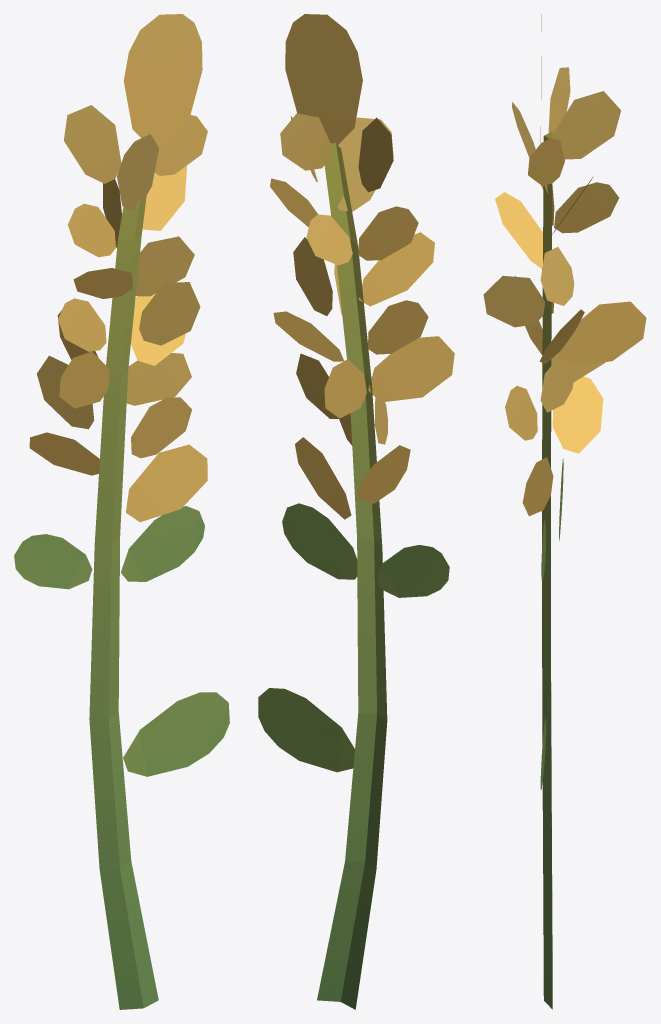
File: SM_Flower_2.fbx
3 renders of one model, left to right at view 1: azimuth 30°, elevation 25°; view 2: azimuth 150°, elevation 25°; view 3: azimuth 270°, elevation 25°, orthographic.
Visible parts, largest first — view 1: SM_Flower_2; view 2: SM_Flower_2; view 3: SM_Flower_2.
Boxes of the visible parts, bbox=[...] form: SM_Flower_2: bbox=[14, 14, 229, 1009]; SM_Flower_2: bbox=[258, 14, 454, 1009]; SM_Flower_2: bbox=[483, 14, 646, 1009].
Bounding box in the file's own units: 11.02 × 51.02 × 7.59.
